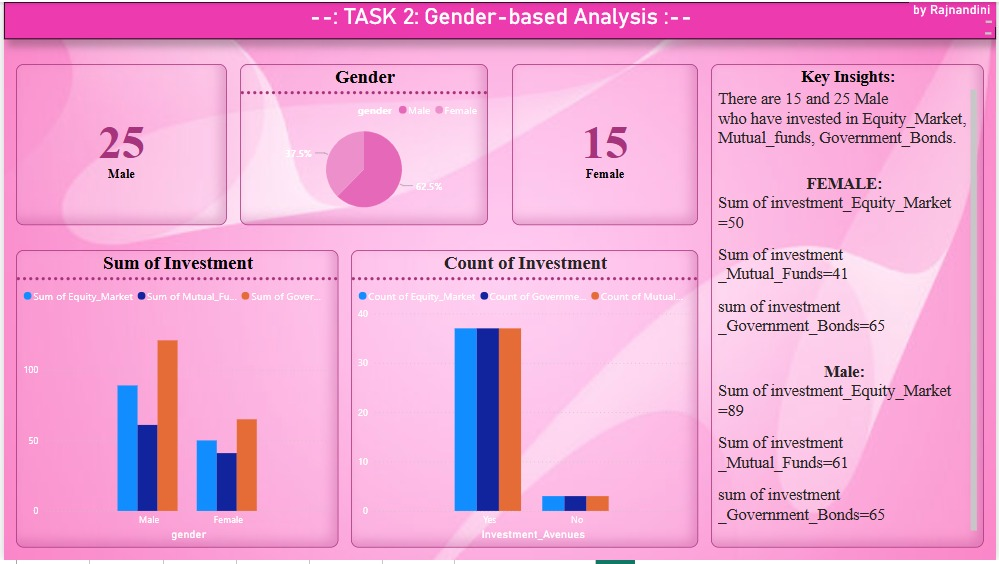

What the dashboard file says about the page in this screenshot:
{"tool":"powerbi","page":{"name":"Task 2","canvas":[1280,720],"ordinal":1},"visuals":[{"type":"textbox","title":"--: TASK 2: Gender-based Analysis :--","box":[0,0,1280,48],"z":0},{"type":"card","fields":{"Values":["Data_set 2.Male"]},"box":[16,80,272,208],"z":1000},{"type":"card","fields":{"Values":["Data_set 2.Female"]},"box":[656,80,240,208],"z":2000},{"type":"pieChart","title":"Gender","fields":{"Category":["Data_set 2.gender"],"Y":["Data_set 2.Investment_Avenues"]},"box":[304,80,320,208],"z":3000},{"type":"clusteredColumnChart","title":"Sum of Investment","fields":{"Category":["Data_set 2.gender"],"Y":["Data_set 2.Equity_Market","Data_set 2.Mutual_Funds","Data_set 2.Government_Bonds"]},"box":[16,320,416,384],"z":4000},{"type":"clusteredColumnChart","title":"Count of Investment","fields":{"Y":["Data_set 2.Equity_Market","Data_set 2.Government_Bonds","Data_set 2.Mutual_Funds"],"Category":["Data_set 2.Investment_Avenues"]},"box":[448,320,448,384],"z":5000},{"type":"textbox","title":"by Rajnandini","box":[1168,0,112,32],"z":6000},{"type":"textbox","title":"Key Insights: ","box":[912,80,352,624],"z":7000}]}

Visuals, with their boxes in screenshot pixels (x1, y1, x2, y2), scaled from the page's 1280x720 canvas onto the 999x564 screenshot:
"--: TASK 2: Gender-based Analysis :--" textbox: l=0, t=0, r=998, b=38
card - Data_set 2.Male: l=12, t=63, r=225, b=226
card - Data_set 2.Female: l=512, t=63, r=699, b=226
"Gender" pieChart: l=237, t=63, r=487, b=226
"Sum of Investment" clusteredColumnChart: l=12, t=251, r=337, b=551
"Count of Investment" clusteredColumnChart: l=350, t=251, r=699, b=551
"by Rajnandini" textbox: l=912, t=0, r=998, b=25
"Key Insights: " textbox: l=712, t=63, r=987, b=551
